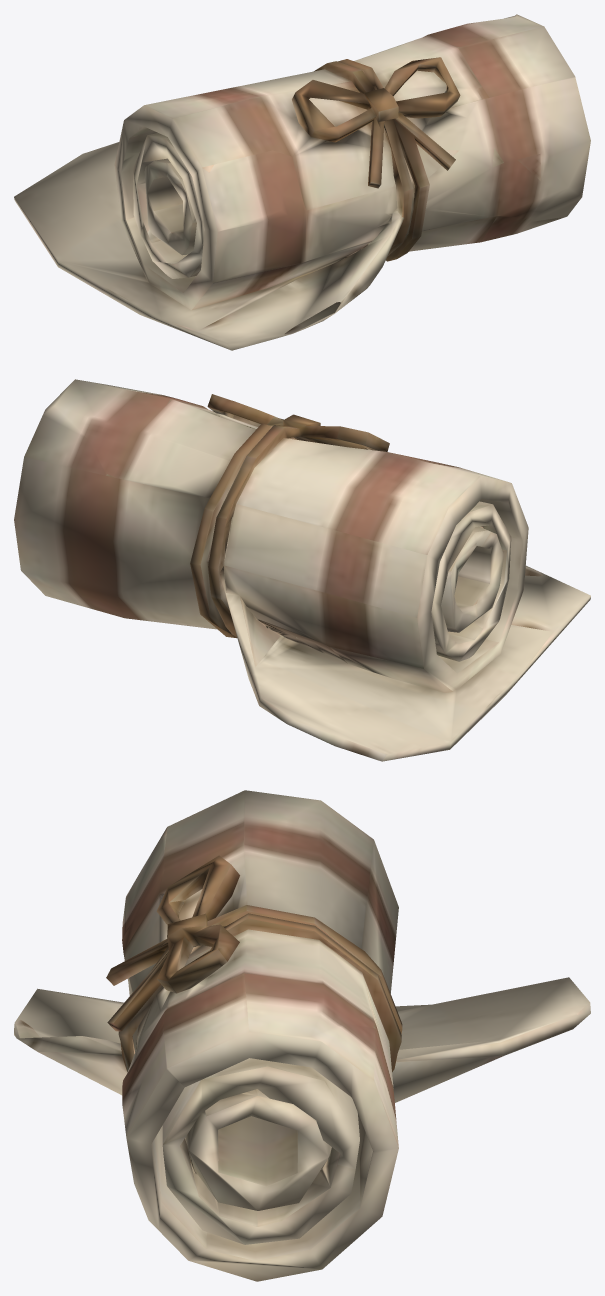
3 views of the same model, one above another, from view 1: azimuth 30°, elevation 25°; view 2: azimuth 150°, elevation 25°; view 3: azimuth 270°, elevation 25° (orthographic). The views are drawn at different scales.
Visible parts, largest first — view 1: node_0; view 2: node_0; view 3: node_0.
Boxes of the visible parts, x1,y1,x2,y2 form: node_0: [14, 14, 590, 350]; node_0: [14, 379, 590, 761]; node_0: [14, 790, 590, 1281].
Size of the model in its own units: 0.9126 by 0.4205 by 0.8192.
1 material, 1 textured.
